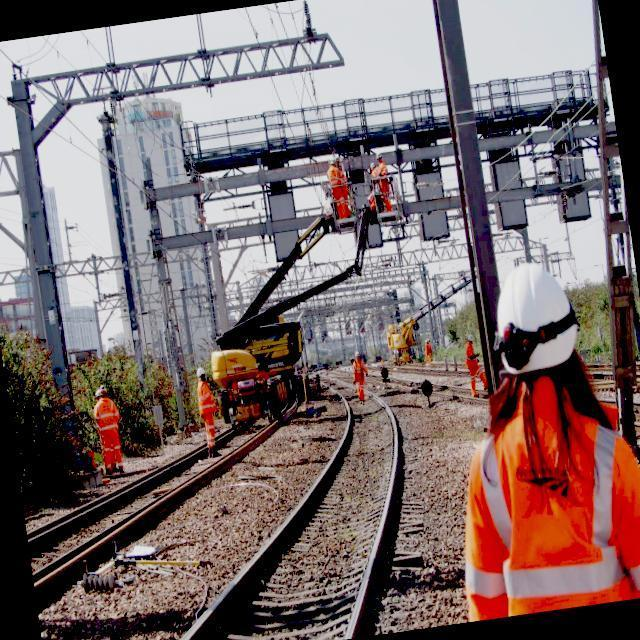rail: (158, 370, 419, 640), (24, 413, 296, 610)
